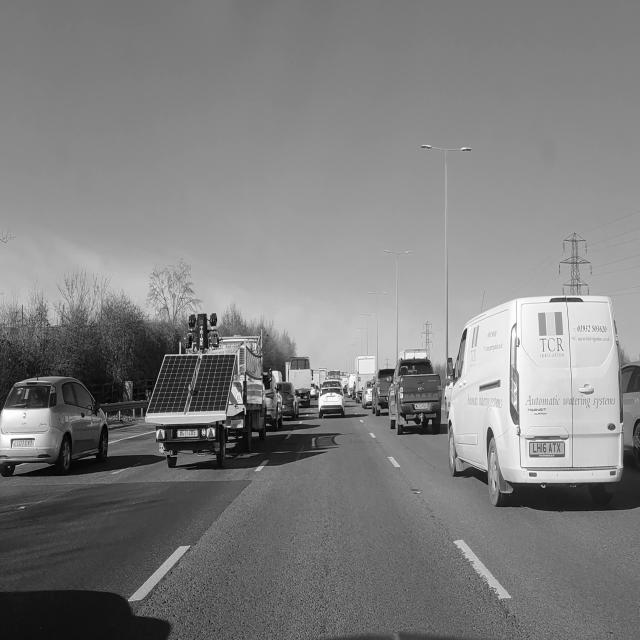car: (0, 377, 108, 477), (388, 354, 444, 438), (263, 372, 282, 429), (372, 369, 393, 415), (319, 382, 344, 418), (278, 382, 299, 418), (362, 380, 373, 408)
